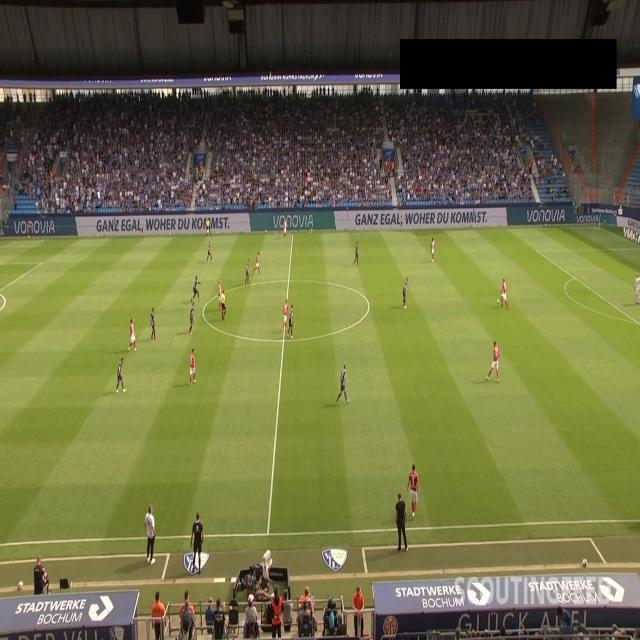ball: (494, 297, 502, 309)
player: (408, 461, 423, 518), (488, 341, 501, 380), (337, 358, 348, 402), (149, 299, 160, 343), (127, 312, 138, 353), (115, 353, 126, 392), (280, 297, 289, 331), (216, 279, 225, 312), (288, 303, 296, 339), (244, 252, 252, 287), (189, 350, 197, 385), (205, 235, 215, 263), (354, 237, 362, 271), (192, 270, 200, 304), (501, 276, 510, 305), (402, 275, 409, 309), (189, 301, 196, 332), (281, 219, 290, 242), (431, 239, 436, 271), (255, 251, 261, 275)
